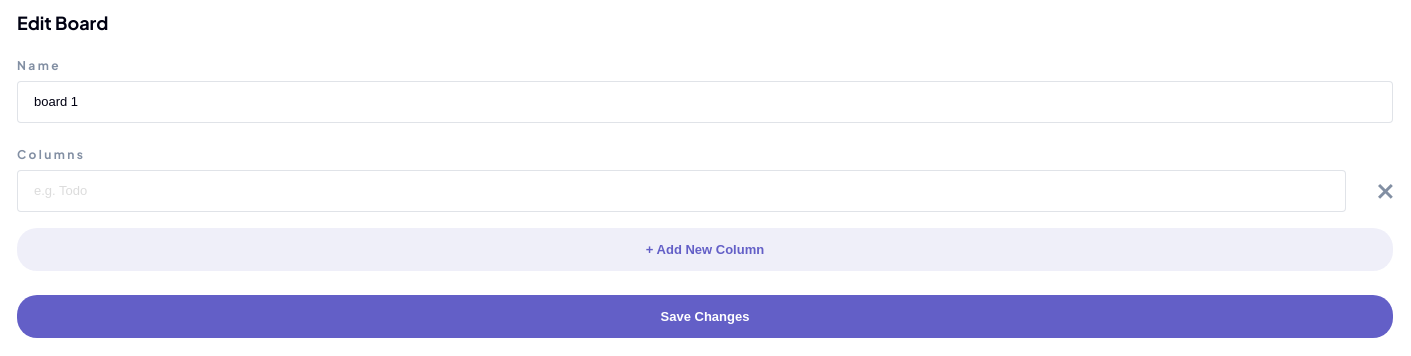
Test case: UpdateBoardModal › validation errors are shown when column is empty
Click the button with test id "update-board-submit": (705, 316) [17, 295, 1393, 338]
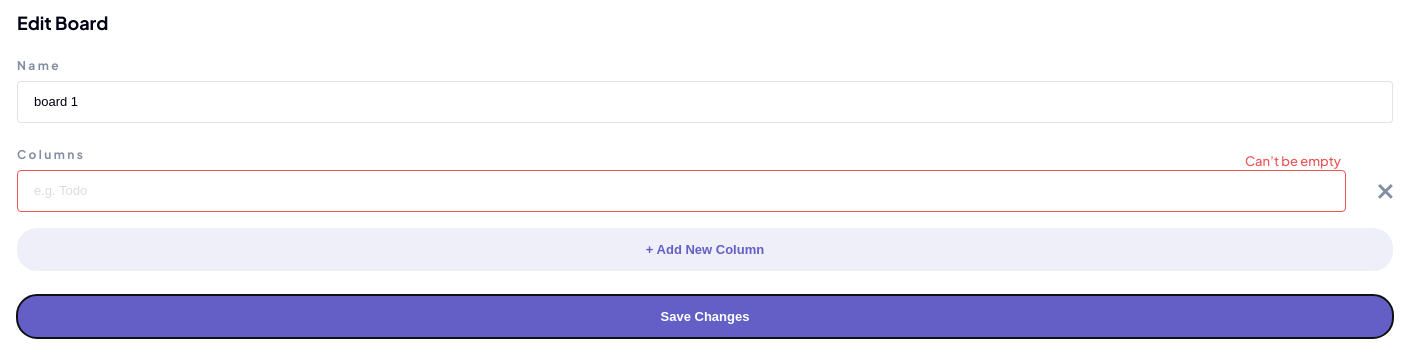
Now the element with test id "column text-field-error" is shown, box [17, 170, 1346, 212]
